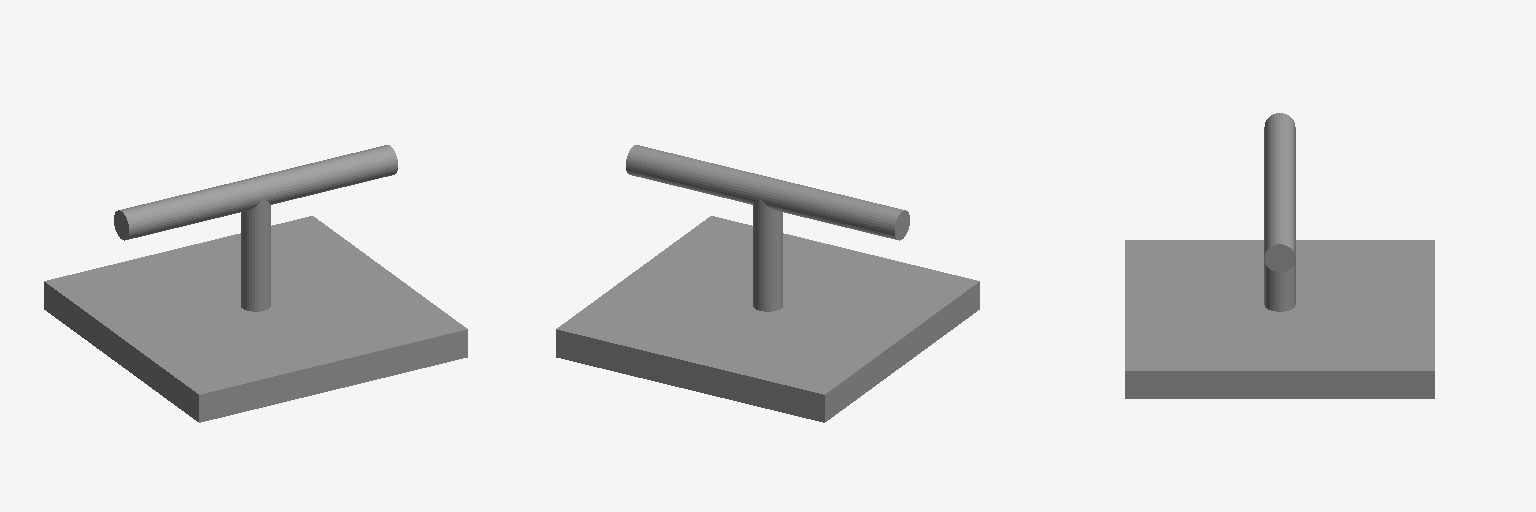
Rendered from solarpanel.obj.
3 renders of one model, left to right at view 1: azimuth 30°, elevation 25°; view 2: azimuth 150°, elevation 25°; view 3: azimuth 270°, elevation 25°, orthographic.
Visible parts, largest first — view 1: Cylinder.001; view 2: Cylinder.001; view 3: Cylinder.001.
Part boxes in pixels (x1,y1,x2,y2): Cylinder.001: (44,145,467,422); Cylinder.001: (556,145,979,422); Cylinder.001: (1125,113,1434,398).
Size of the model in its own units: 2 by 1.1 by 2.